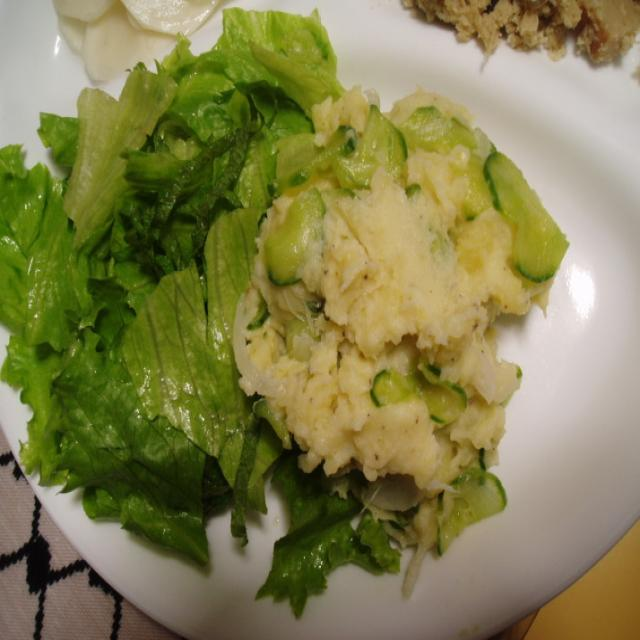蔬菜料理: (216, 80, 570, 571)
